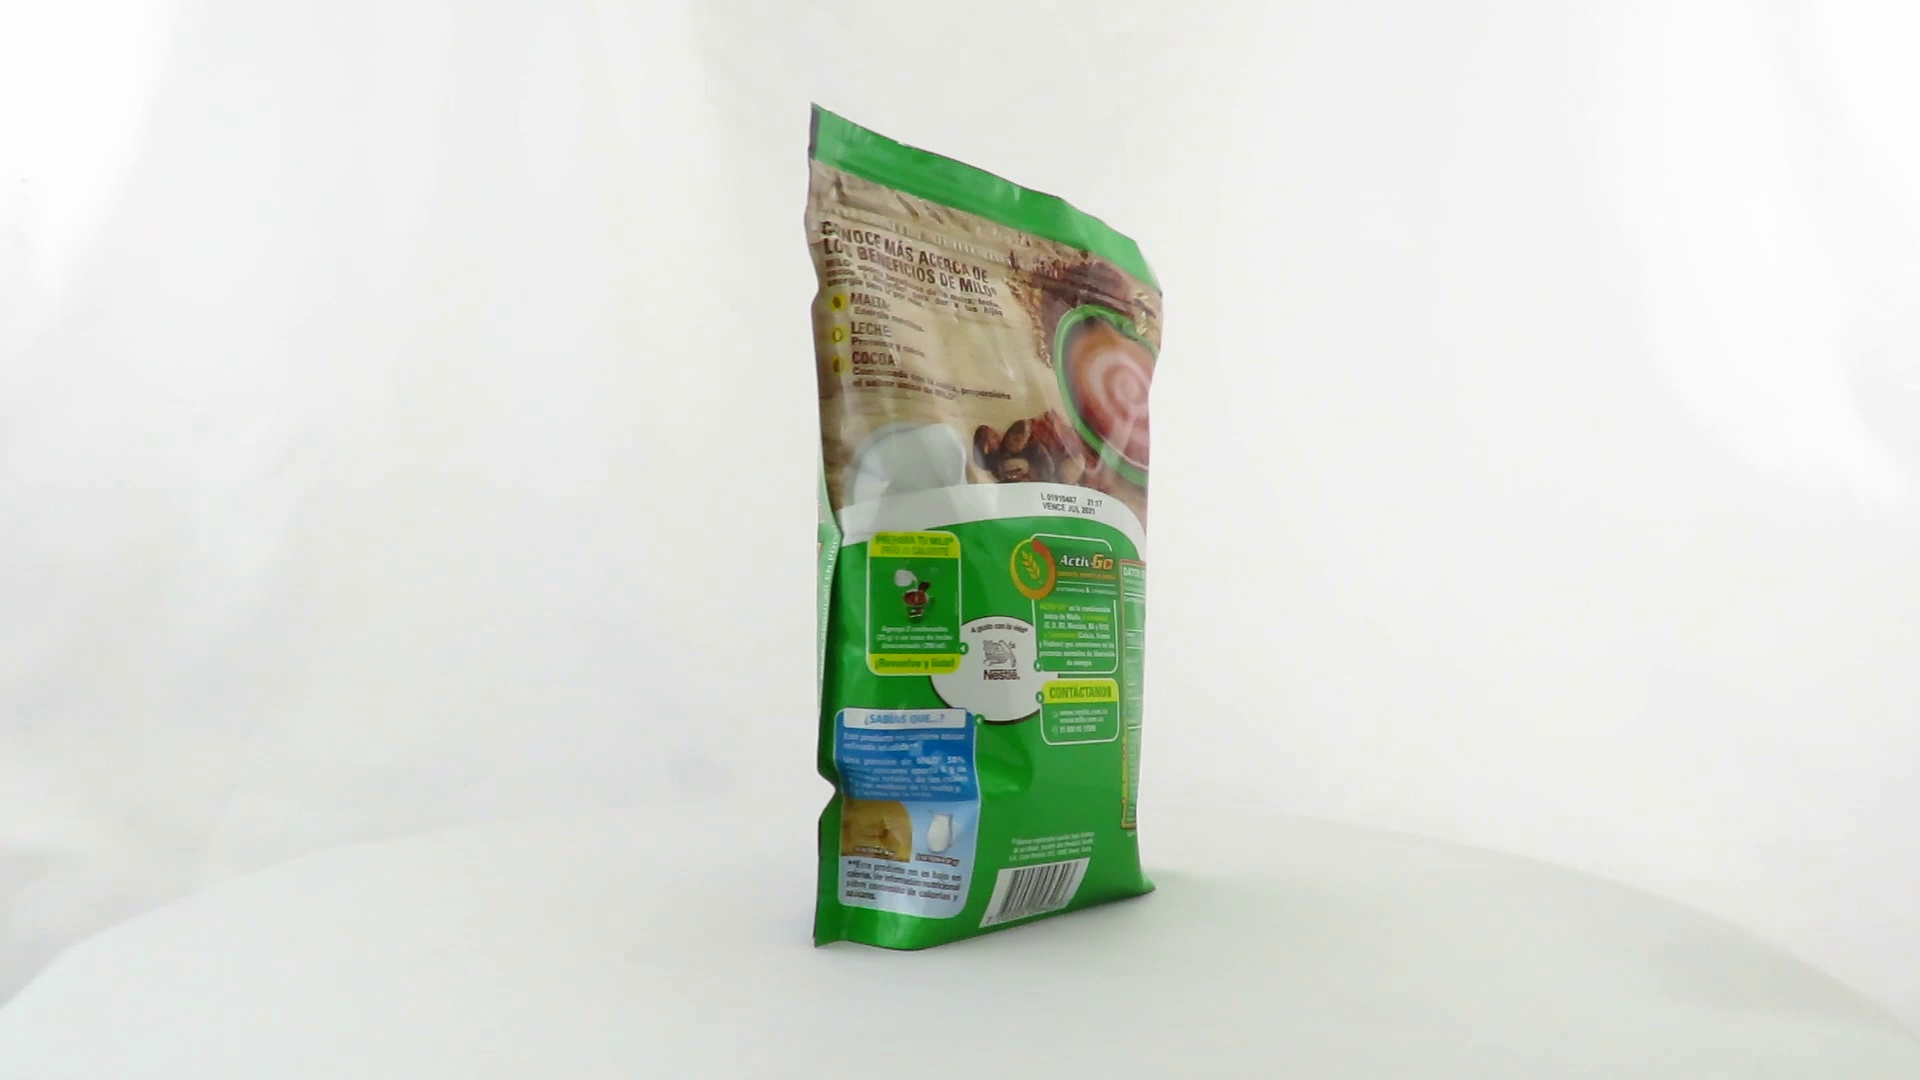COL0170205DYP50000: (799, 98, 1170, 957)
